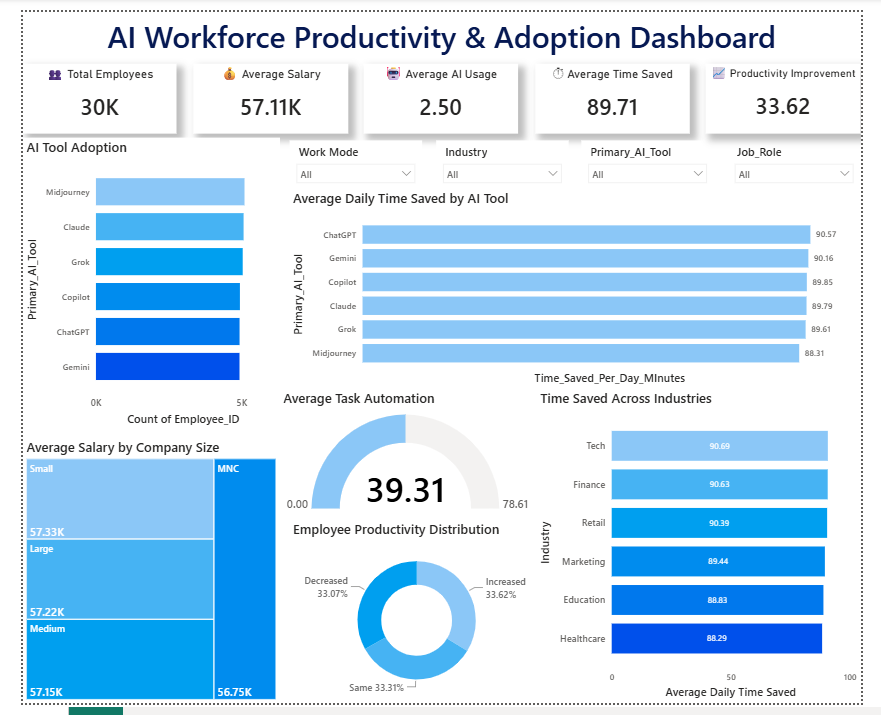

Layout of this report page (visuals, bound fields, positions):
{"tool":"powerbi","page":{"name":"Page 1","canvas":[1200,990],"ordinal":0},"visuals":[{"type":"textbox","box":[0,0,1200,75],"z":0},{"type":"cardVisual","title":"👥 Total Employees","fields":{"Data":["CountNonNull(Final_Cleaned_Data.Employee_ID)"]},"box":[0,73.3,220,100],"z":1000},{"type":"cardVisual","title":"💰 Average Salary","fields":{"Data":["Avg(Final_Cleaned_Data.Salary_USD)"]},"box":[243.2,73.3,222,100],"z":2000},{"type":"cardVisual","title":"🤖 Average AI Usage","fields":{"Data":["Avg(Final_Cleaned_Data.Daily_AI_Usage_Hours)"]},"box":[488.3,73.3,221.7,100],"z":3000},{"type":"cardVisual","title":"⏱ Average Time Saved","fields":{"Data":["Avg(Final_Cleaned_Data.Time_Saved_Per_Day_Minutes)"]},"box":[733.2,73.3,221.7,100],"z":4000},{"type":"donutChart","title":"Employee Productivity Distribution","fields":{"Category":["Final_Cleaned_Data.Productivity_Change"],"Y":["CountNonNull(Final_Cleaned_Data.Employee_ID)"]},"box":[382,728,364,262],"z":5000},{"type":"barChart","title":"AI Tool Adoption","fields":{"Category":["Final_Cleaned_Data.Primary_AI_Tool"],"Y":["CountNonNull(Final_Cleaned_Data.Employee_ID)"],"Series":["Final_Cleaned_Data.Primary_AI_Tool"]},"box":[0,180,368,418],"z":6000},{"type":"clusteredBarChart","title":"Average Daily Time Saved by AI Tool","fields":{"Category":["Final_Cleaned_Data.Primary_AI_Tool"],"Y":["Avg(Final_Cleaned_Data.Time_Saved_Per_Day_Minutes)"]},"box":[382,254,818,286],"z":7000},{"type":"barChart","title":"Time Saved Across Industries","fields":{"Category":["Final_Cleaned_Data.Industry"],"Series":["Final_Cleaned_Data.Industry"],"Y":["Avg(Final_Cleaned_Data.Time_Saved_Per_Day_Minutes)"]},"box":[736,540,464,450],"z":8000},{"type":"slicer","fields":{"Values":["Final_Cleaned_Data.Job_Role"]},"box":[1010,184,190,70],"z":9000},{"type":"slicer","fields":{"Values":["Final_Cleaned_Data.Remote_Work_Type"]},"box":[382,184,190,70],"z":10000},{"type":"treemap","title":"Average Salary by Company Size","fields":{"Group":["Final_Cleaned_Data.Company_Size"],"Values":["Avg(Final_Cleaned_Data.Salary_USD)"]},"box":[0,610,367.5,380],"z":11000},{"type":"slicer","fields":{"Values":["Final_Cleaned_Data.Industry"]},"box":[591.3,184,190,70],"z":12000},{"type":"gauge","title":"Average Task Automation","fields":{"Y":["Avg(Final_Cleaned_Data.Tasks_Automated_Percent)"]},"box":[368,540,366,188],"z":13000},{"type":"slicer","fields":{"Values":["Final_Cleaned_Data.Primary_AI_Tool"]},"box":[800.7,184,190,70],"z":14000},{"type":"cardVisual","title":"📈 Productivity Improvement","fields":{"Data":["Final_Cleaned_Data.Productivity Increased %"]},"box":[978,73.3,222,100],"z":15000}]}

Visuals, with their boxes in screenshot pixels (x1, y1, x2, y2), scaled from the page's 1200x990 canvas onto the 881x715 screenshot:
textbox: rect(0, 0, 880, 54)
"👥 Total Employees" cardVisual: rect(0, 53, 162, 125)
"💰 Average Salary" cardVisual: rect(179, 53, 342, 125)
"🤖 Average AI Usage" cardVisual: rect(358, 53, 521, 125)
"⏱ Average Time Saved" cardVisual: rect(538, 53, 701, 125)
"Employee Productivity Distribution" donutChart: rect(280, 526, 548, 714)
"AI Tool Adoption" barChart: rect(0, 130, 270, 432)
"Average Daily Time Saved by AI Tool" clusteredBarChart: rect(280, 183, 880, 390)
"Time Saved Across Industries" barChart: rect(540, 390, 880, 714)
slicer - Final_Cleaned_Data.Job_Role: rect(742, 133, 880, 183)
slicer - Final_Cleaned_Data.Remote_Work_Type: rect(280, 133, 420, 183)
"Average Salary by Company Size" treemap: rect(0, 441, 270, 714)
slicer - Final_Cleaned_Data.Industry: rect(434, 133, 574, 183)
"Average Task Automation" gauge: rect(270, 390, 539, 526)
slicer - Final_Cleaned_Data.Primary_AI_Tool: rect(588, 133, 727, 183)
"📈 Productivity Improvement" cardVisual: rect(718, 53, 880, 125)
